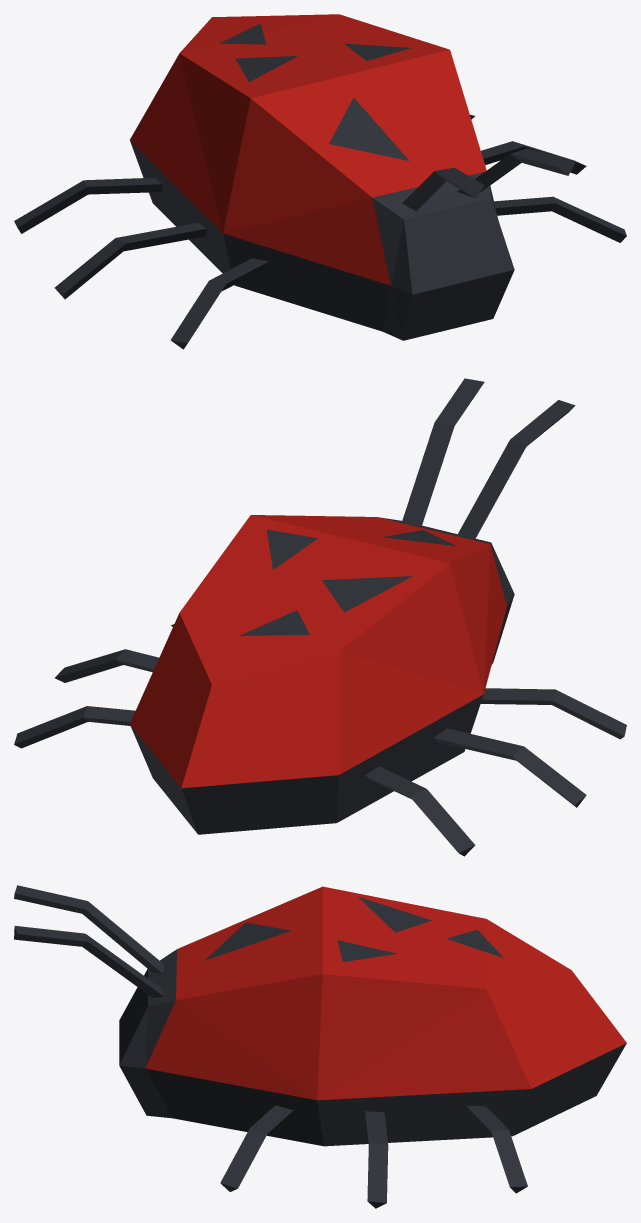
The model's file is LadyBird.fbx.
3 renders of one model, top to bottom at view 1: azimuth 30°, elevation 25°; view 2: azimuth 150°, elevation 25°; view 3: azimuth 270°, elevation 25°, orthographic. The views are drawn at different scales.
Parts seen in each view (by area): view 1: LadyBird; view 2: LadyBird; view 3: LadyBird.
Part boxes in pixels (x1,y1,x2,y2): LadyBird: (14, 14, 626, 349); LadyBird: (14, 378, 626, 856); LadyBird: (14, 885, 626, 1208).
Bounding box in the file's own units: 26.13 × 9.93 × 29.52.
